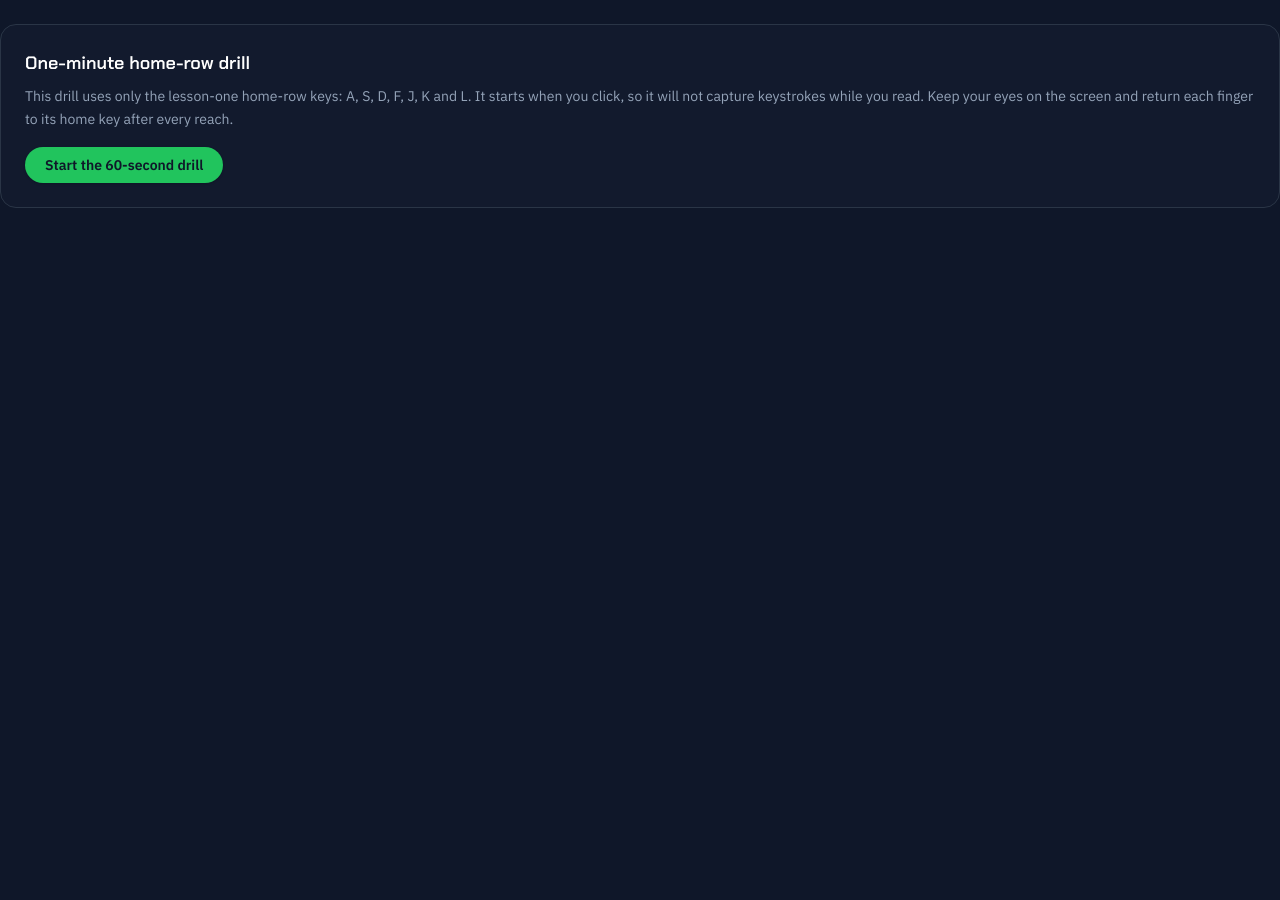
HomeRowDrill › mounts the typing drill only after an explicit start
Expected: the element with test id "home-row-drill" is shown, [0,24,1279,208]
Click the button with test id "home-row-drill-start" at {"x": 124, "y": 164}, box [25,146,223,182]
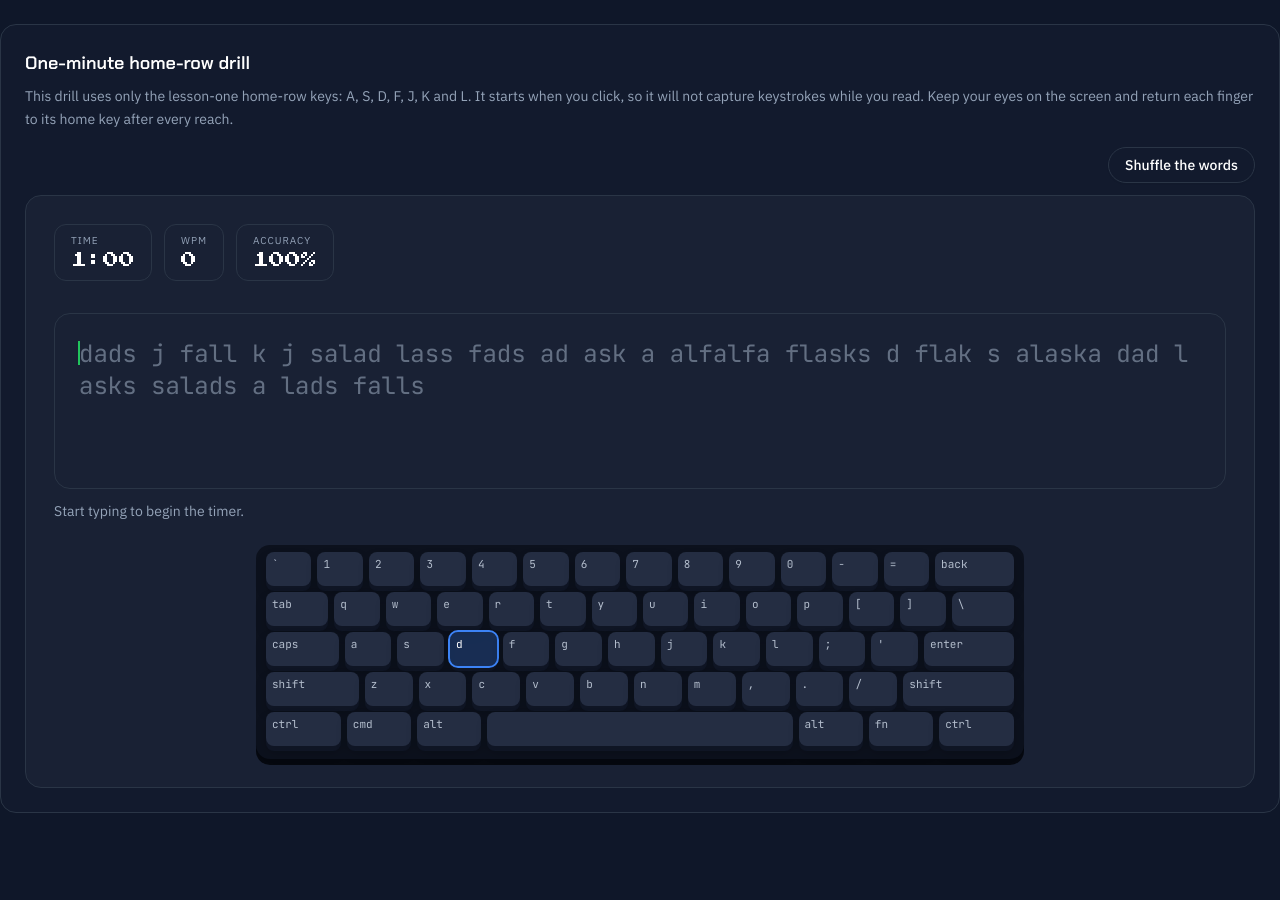
Expected: the element with test id "home-row-drill-tool" is shown
Expected: the button with test id "home-row-drill-shuffle" is shown, [1108,146,1255,182]
